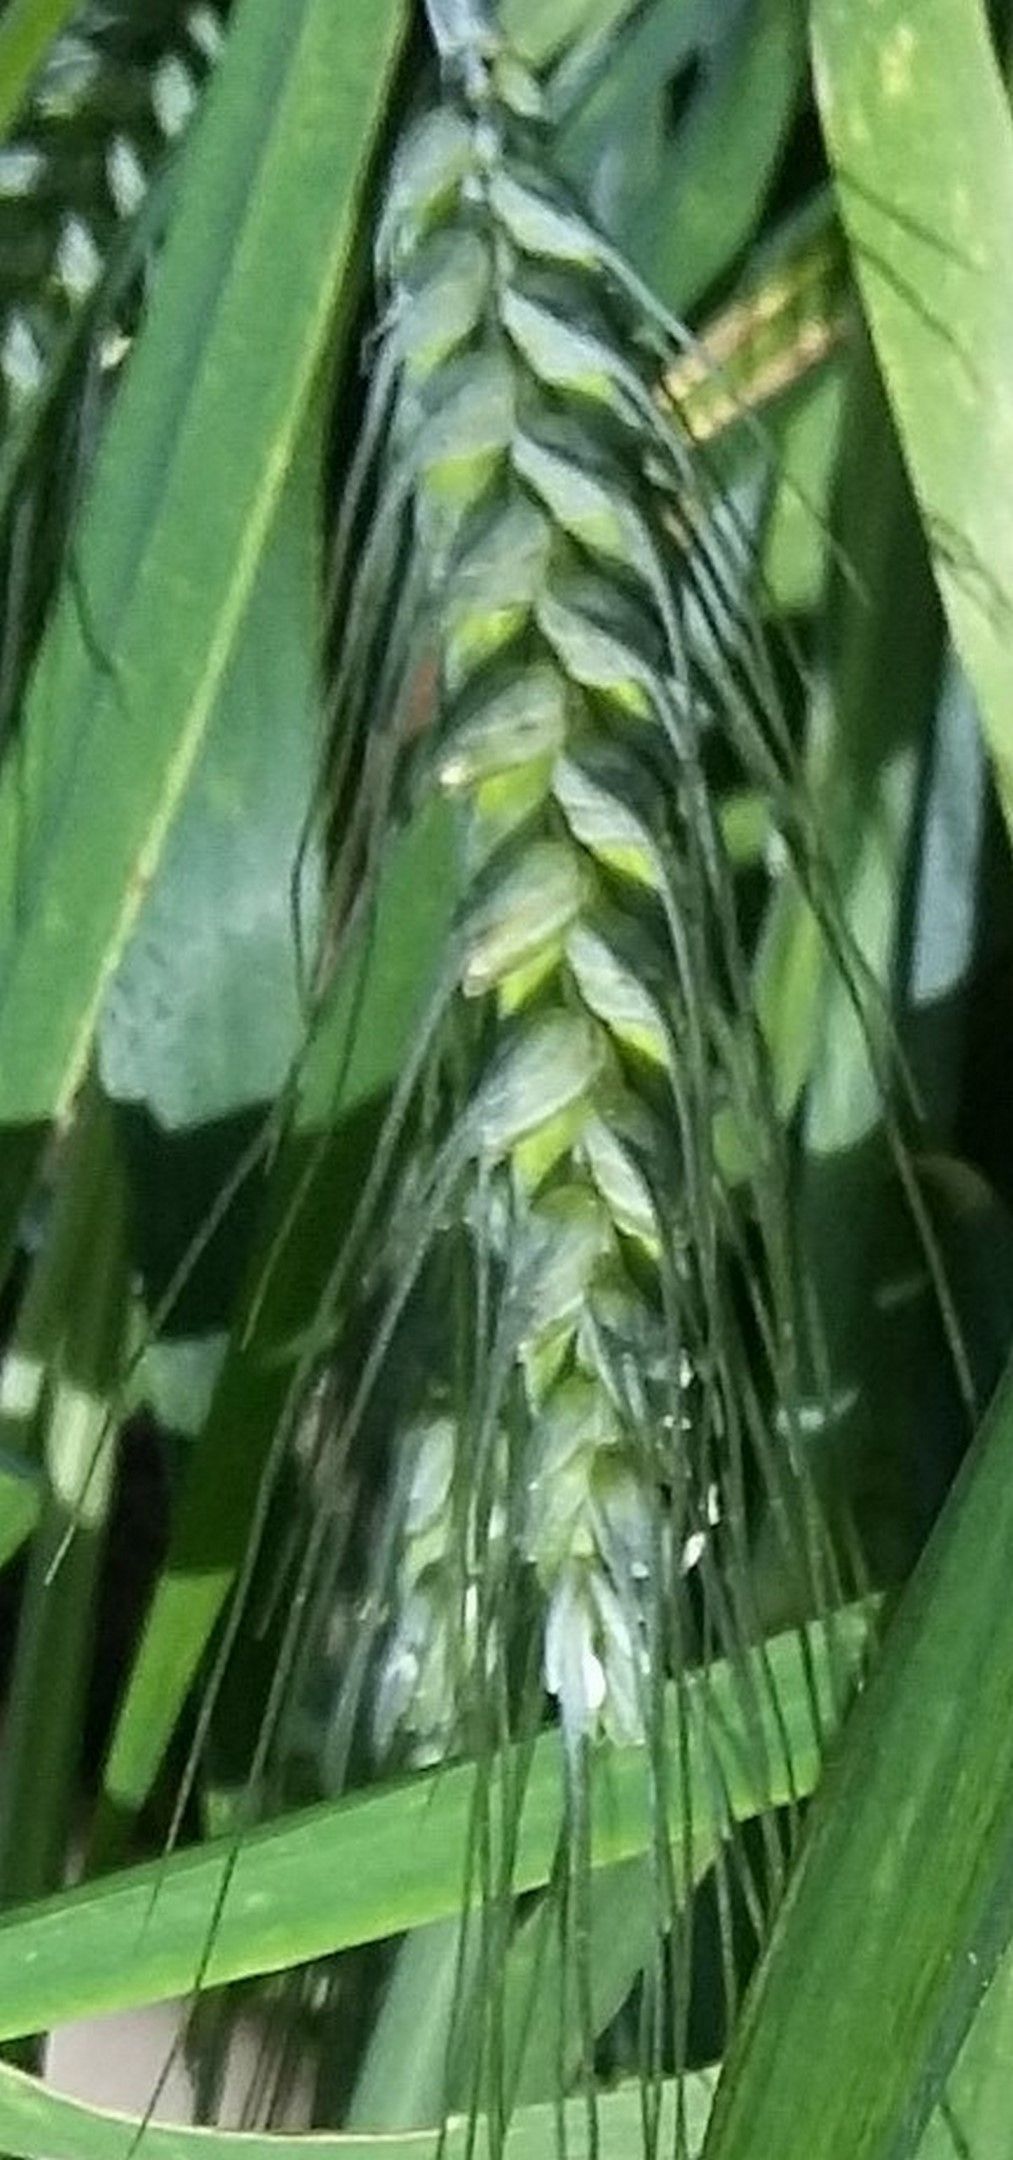Healthy Wheat: (345, 114, 802, 1777)
